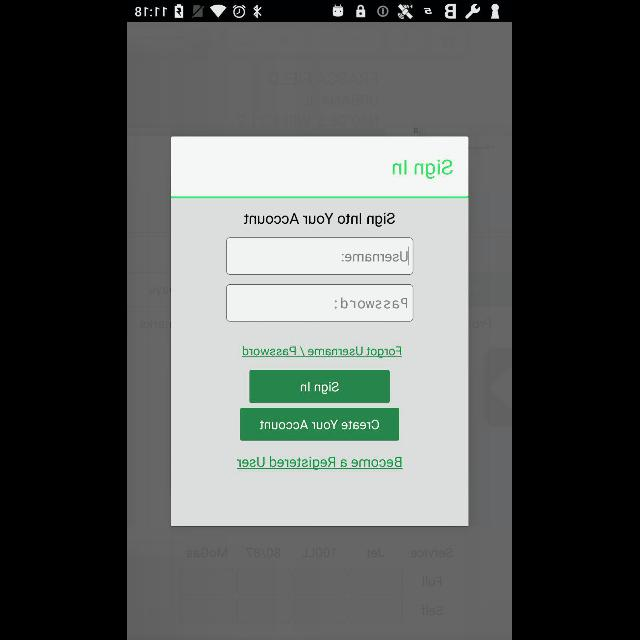input: (226, 284, 414, 322), (226, 238, 414, 274)
panel: (172, 137, 470, 526)
text: (238, 456, 404, 469), (245, 214, 395, 226), (242, 347, 402, 358), (393, 160, 453, 178), (336, 298, 408, 308), (342, 252, 408, 262)
textbutton: (242, 408, 401, 440), (250, 371, 390, 404)
uppertaskbar: (128, 1, 512, 23)
